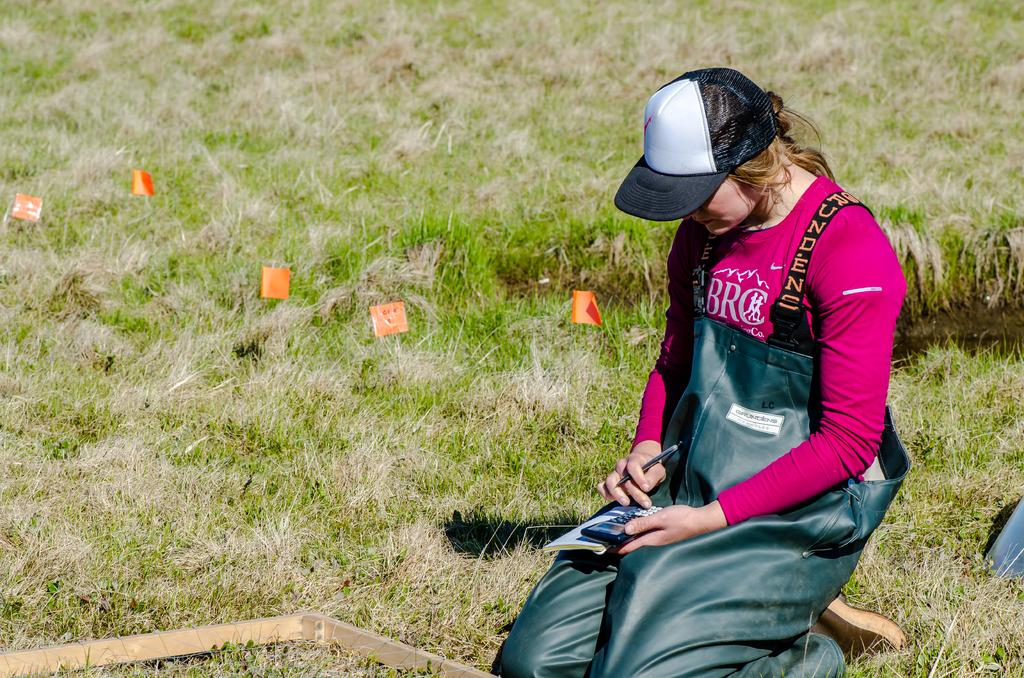Hat: (610, 65, 778, 222)
